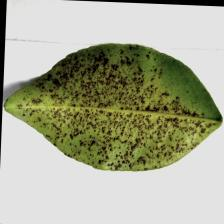canker: (59, 72, 183, 162)
